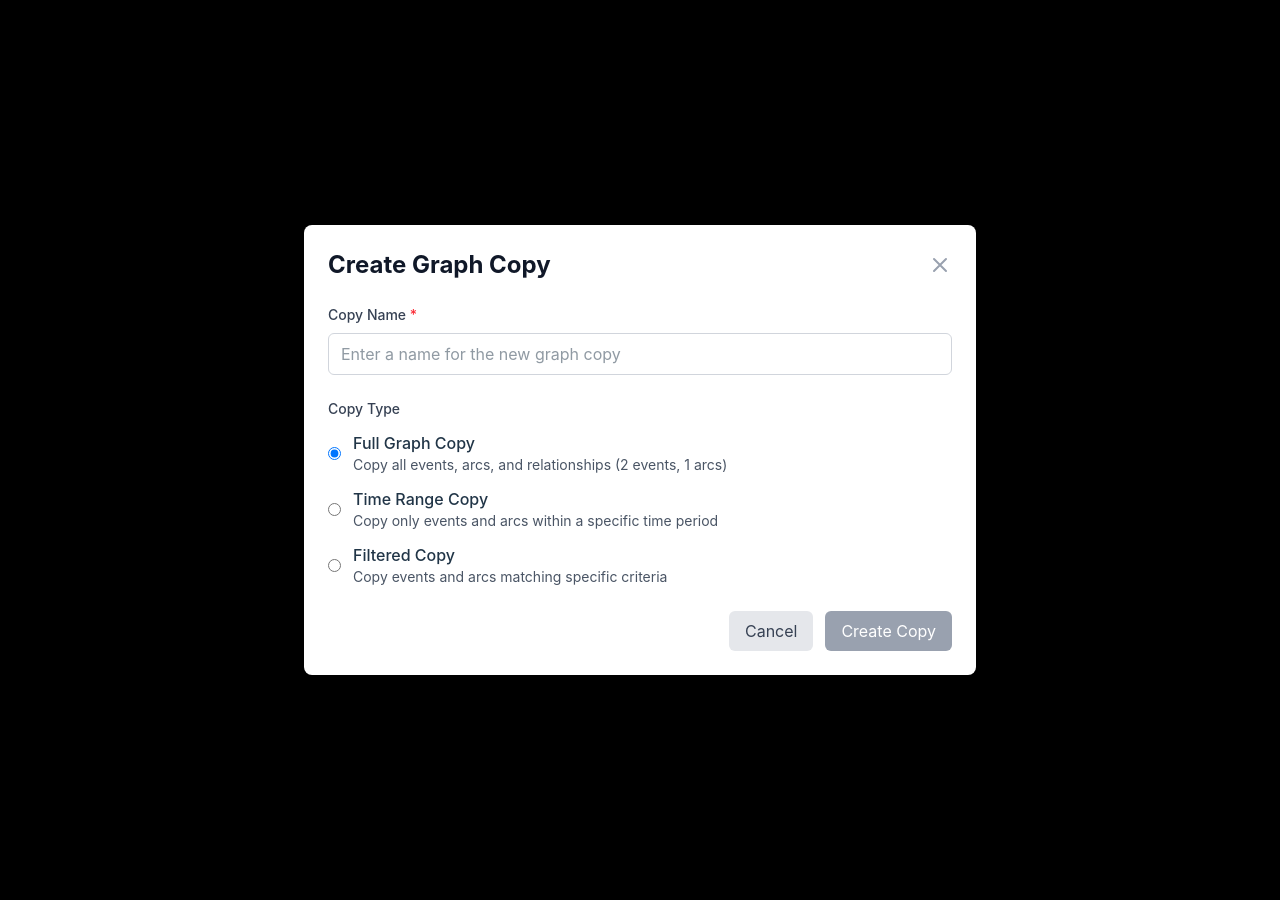
Test: GraphCopyModal › should show filter configuration when filtered copy is selected
The image size is (1280, 900).
What coordinates should you click on to do the following:
click the radio button labelled "Filtered Copy"
I would click on:
 (334, 565)
Its box is [328,558,341,572].
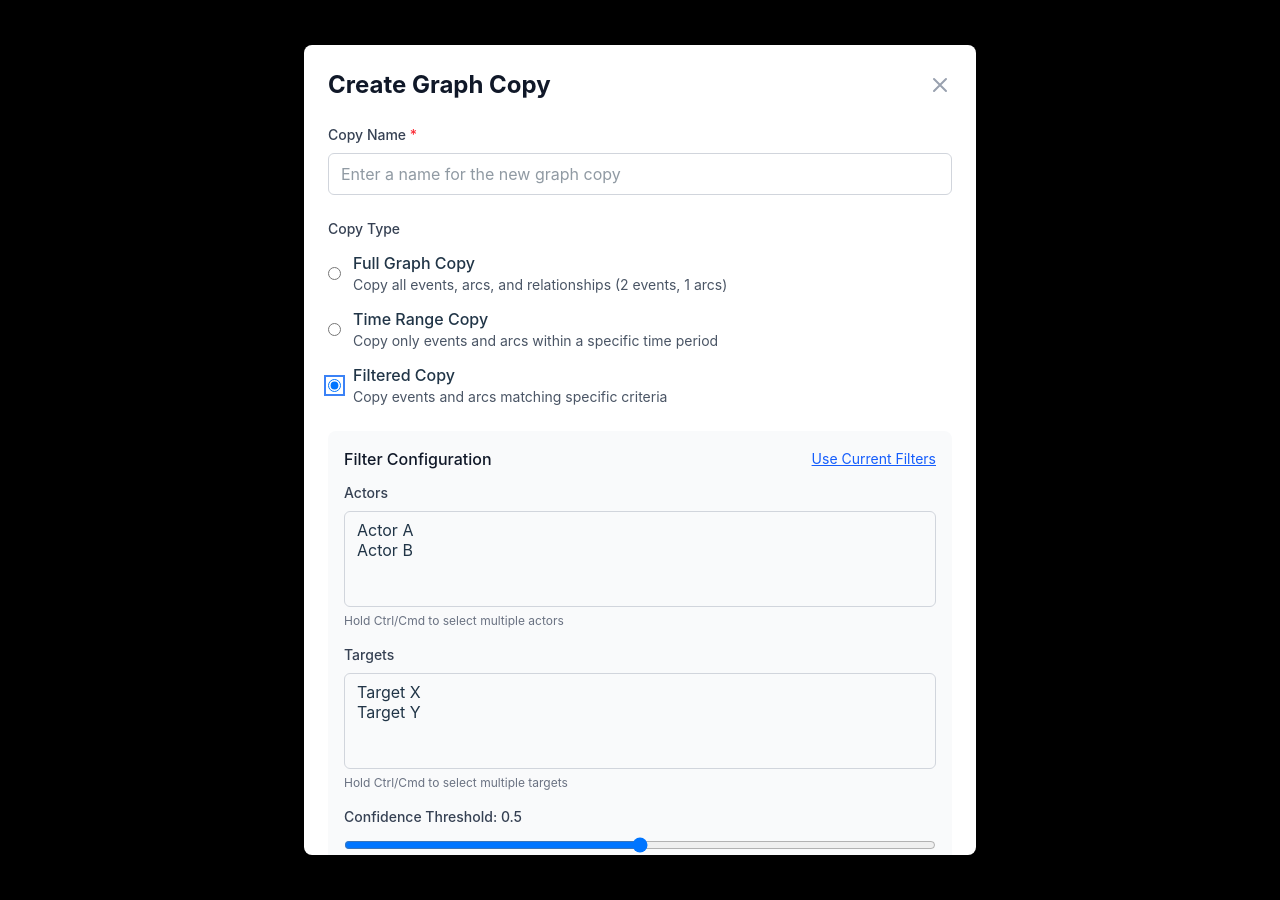
Expected: the heading "Filter Configuration" is shown, [344,447,492,471]
Expected: the button "Use Current Filters" is shown, [812,449,936,469]
Expected: the text "Actors" is shown, [344,484,388,501]
